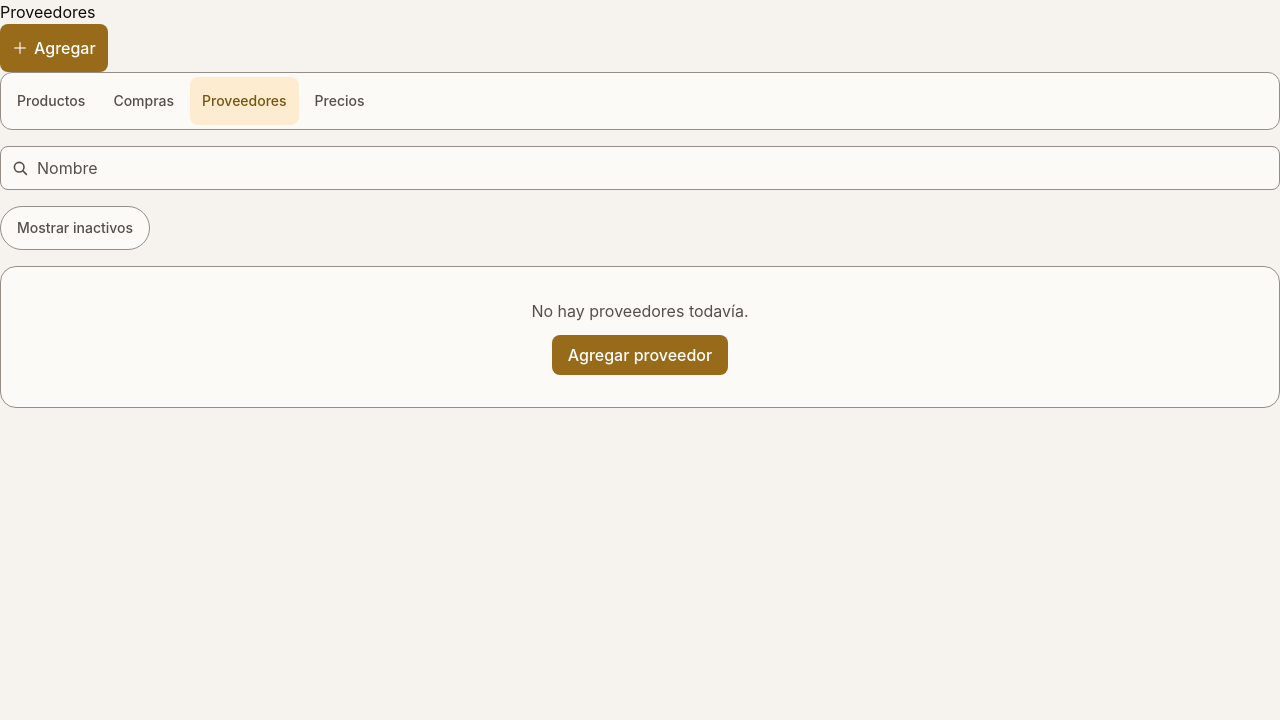
Test: Proveedores › alta › crea un proveedor con los datos básicos y cierra con éxito
Click the button with aria-label "Agregar proveedor": (54, 48) [0,24,108,72]
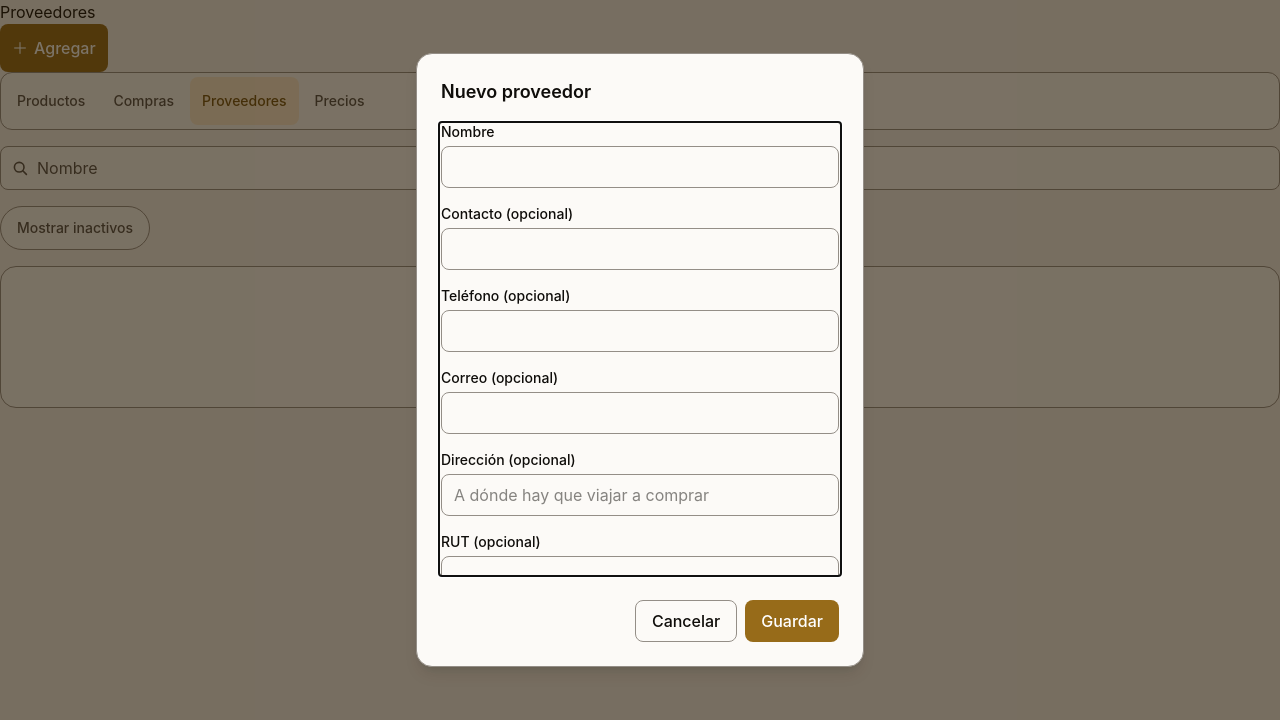
In the field labelled "Nombre": (640, 167) [441,146,839,188], type "Quesos del Norte"
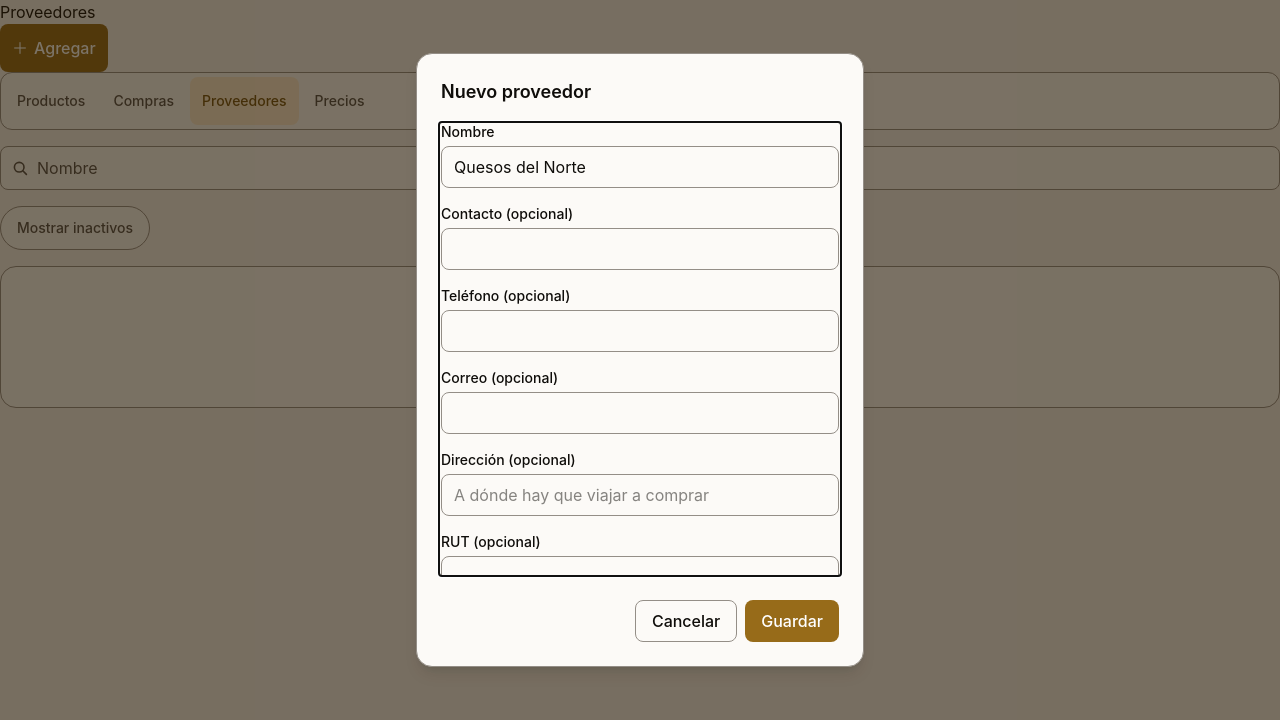
Click the button "Guardar": (792, 621) [745,600,839,642]
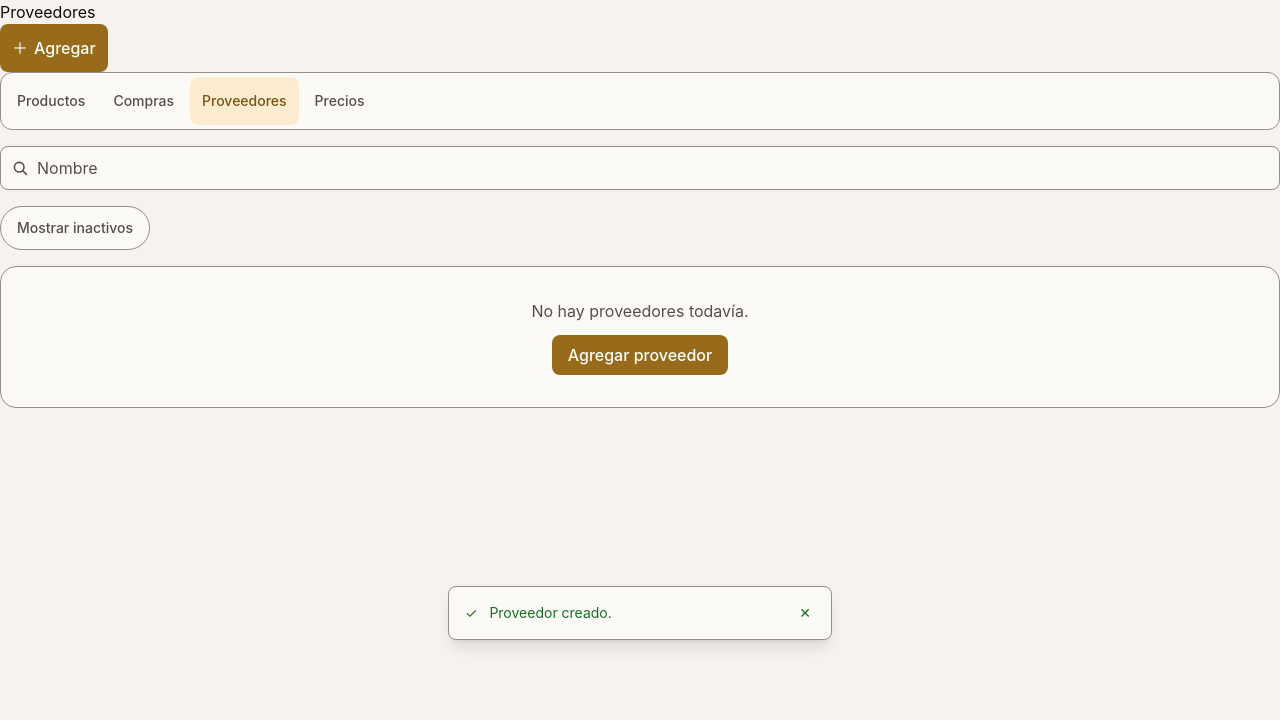
Now the text "Proveedor creado." is shown, box [489,604,612,621]
